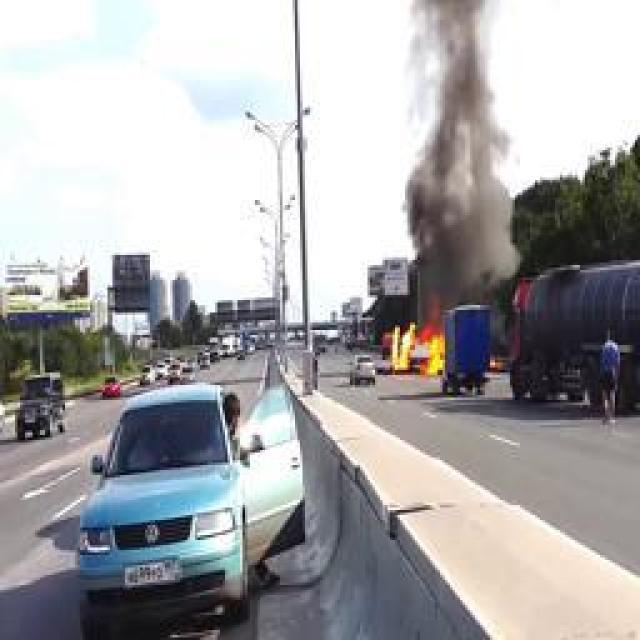Fire: (391, 321, 444, 379)
